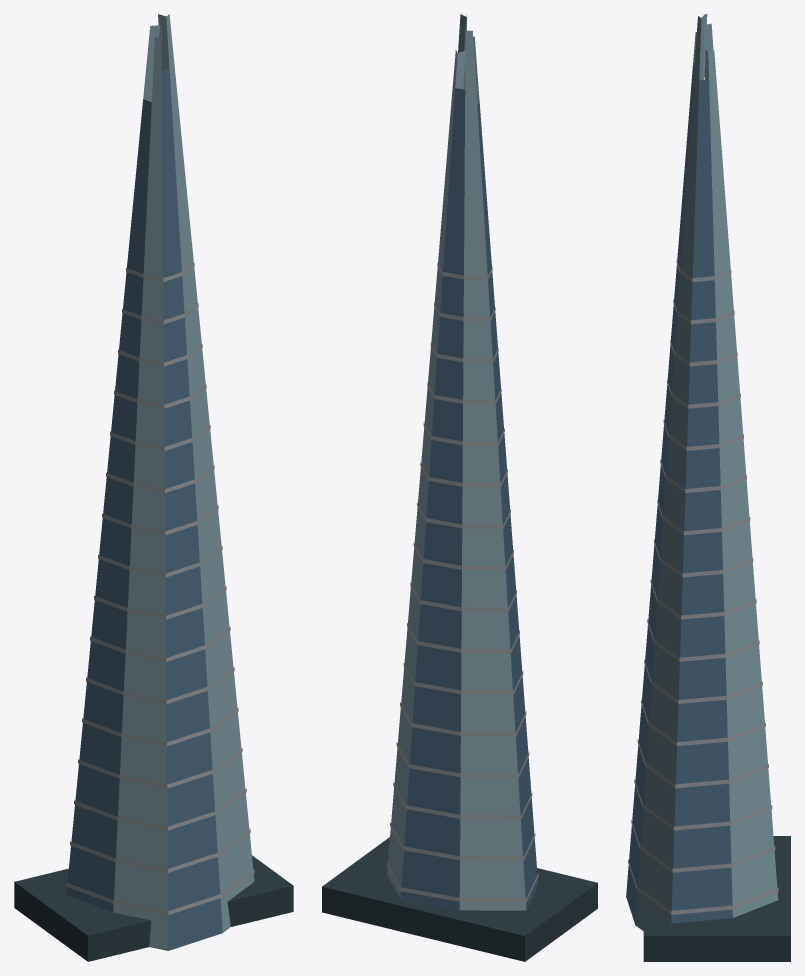
Rendered from shard.glb.
3 renders of one model, left to right at view 1: azimuth 30°, elevation 25°; view 2: azimuth 150°, elevation 25°; view 3: azimuth 270°, elevation 25°, orthographic.
Parts seen in each view (by area): view 1: shard; view 2: shard; view 3: shard.
Part boxes in pixels (box(x1,y1,x2,y2)): shard: box(14, 14, 293, 961); shard: box(322, 14, 597, 961); shard: box(626, 14, 790, 961).
Bounding box in the file's own units: 74 × 310 × 51.53.
